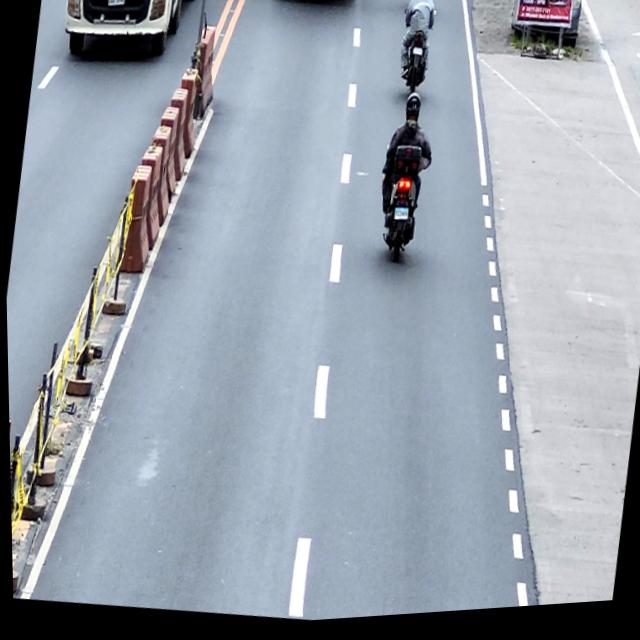License-Plate: (392, 212, 408, 227), (107, 0, 127, 10), (412, 52, 423, 62)
Motorcycle: (369, 145, 432, 272), (394, 10, 439, 100)
Truck: (56, 0, 207, 74)
